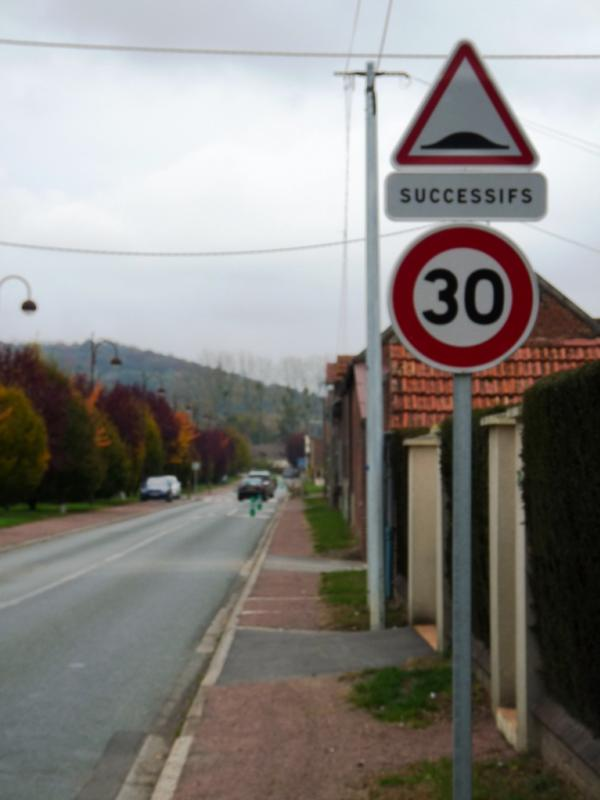Speed_limit_30km: (389, 221, 540, 371)
